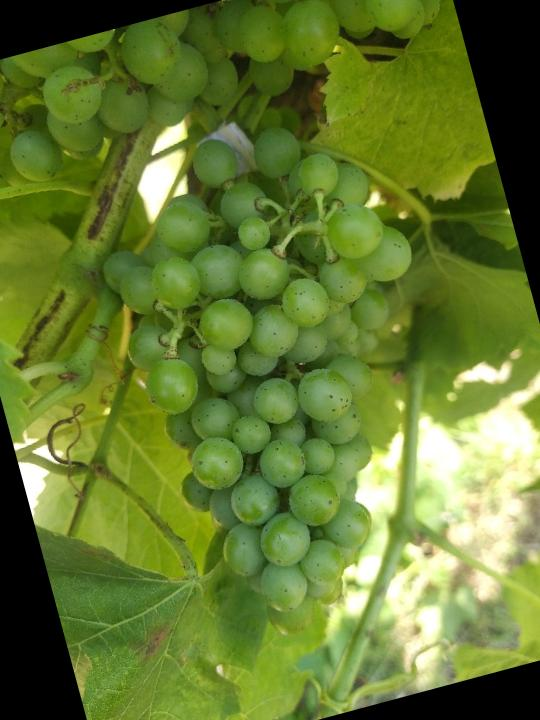grape: (77, 90, 504, 661)
